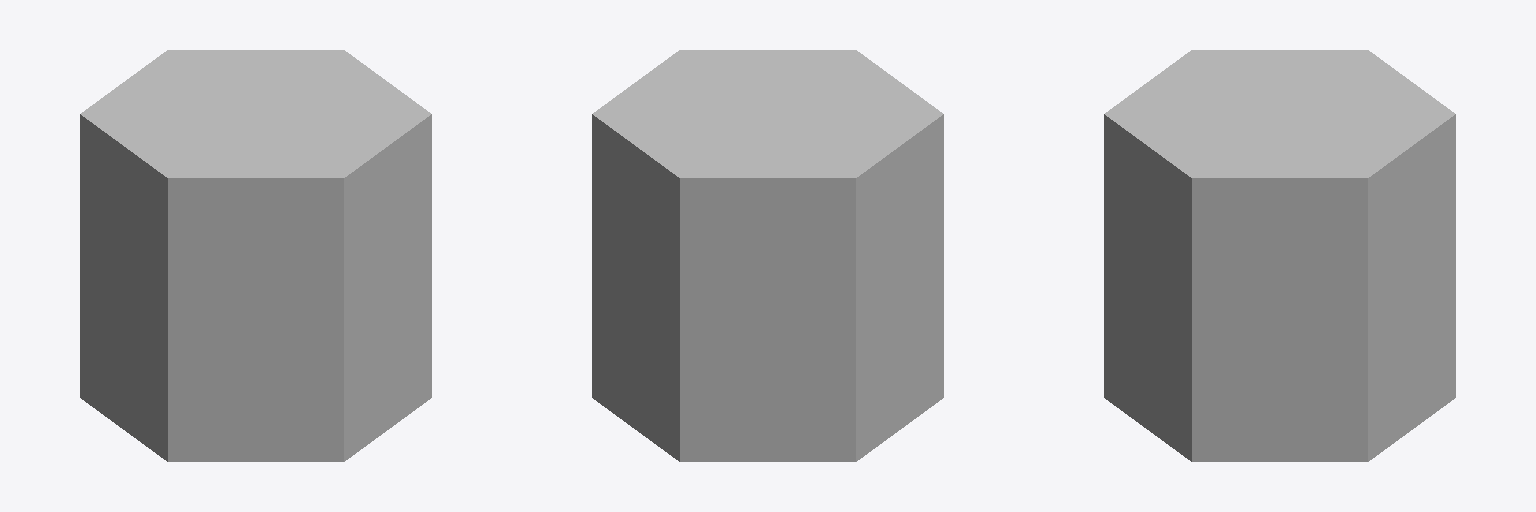
File: hexagon.obj
3 views of the same model, side by side, from view 1: azimuth 30°, elevation 25°; view 2: azimuth 150°, elevation 25°; view 3: azimuth 270°, elevation 25° (orthographic).
Visible parts, largest first — view 1: 円; view 2: 円; view 3: 円.
Boxes of the visible parts, <box> form: 円: <box>80,50,431,461</box>; 円: <box>592,50,943,461</box>; 円: <box>1104,50,1455,461</box>.
Size of the model in its own units: 1.73 by 1.78 by 2.